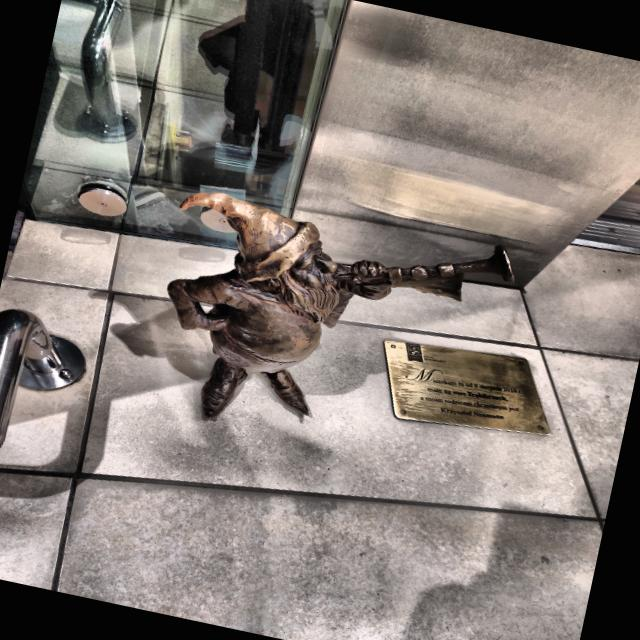Trabibrzuch: (167, 193, 514, 417)
